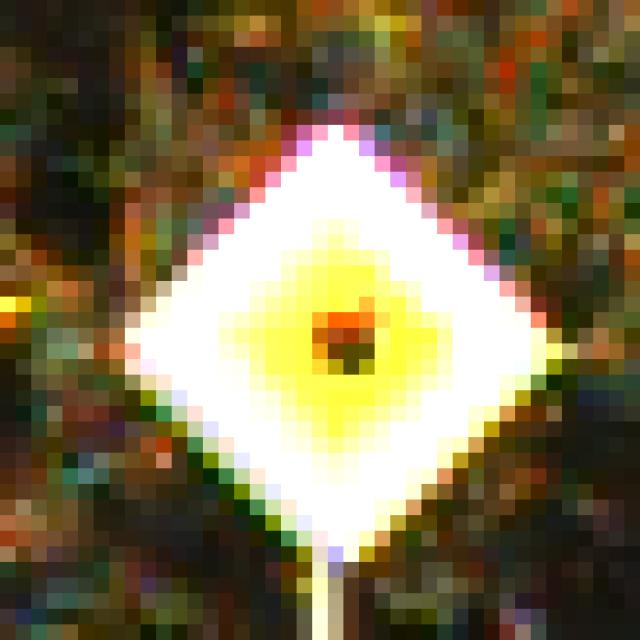Main Road: (95, 95, 563, 547)
